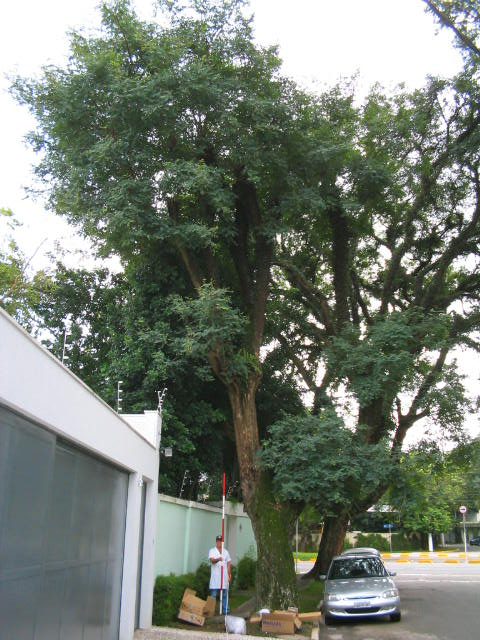crown: (9, 4, 449, 400)
stem: (241, 523, 309, 620)
stick: (217, 471, 228, 614)
tree: (4, 1, 453, 624)
